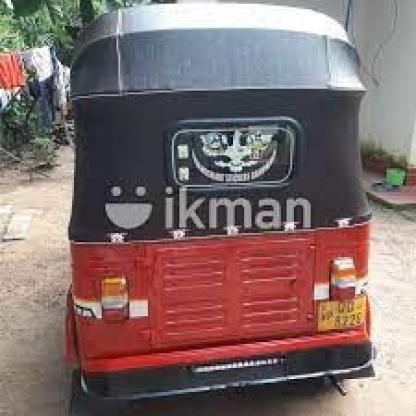number plate: (315, 300, 370, 331)
three wheeler back: (53, 1, 383, 416)
